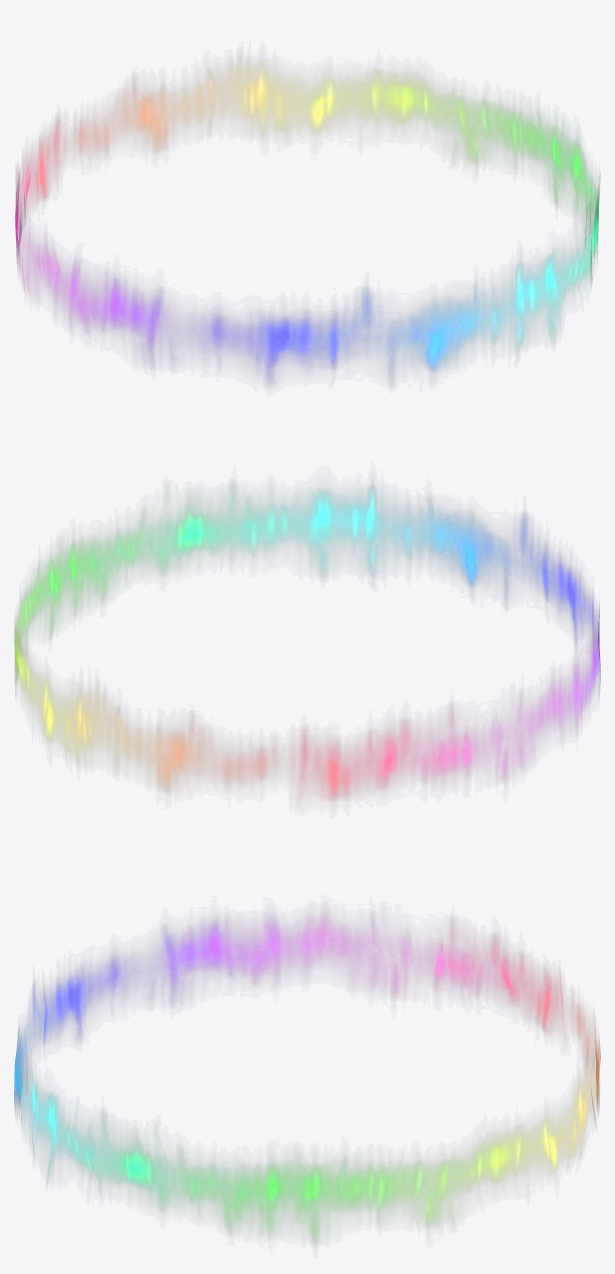
File: aurora.glb
The picture shows the model from 3 angles, top to bottom: view 1: azimuth 30°, elevation 25°; view 2: azimuth 150°, elevation 25°; view 3: azimuth 270°, elevation 25°; orthographic projection.
Parts seen in each view (by area): view 1: cylinder; view 2: cylinder; view 3: cylinder.
Boxes of the visible parts, left/top/right/bottom form: cylinder: left=15, top=55, right=600, bottom=384; cylinder: left=14, top=482, right=600, bottom=801; cylinder: left=14, top=911, right=600, bottom=1244.
Bounding box in the file's own units: 52.54 × 15.18 × 52.77.
Materials: 1 (1 with a texture image).
